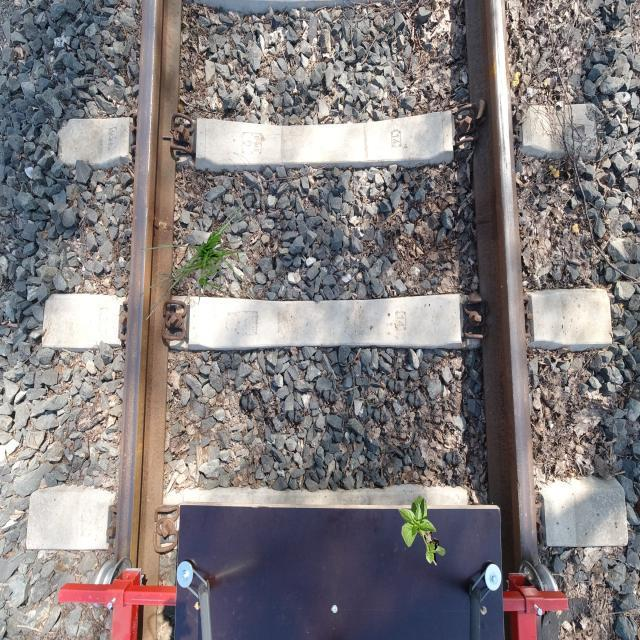Plant: (139, 198, 258, 320), (398, 495, 446, 566)
